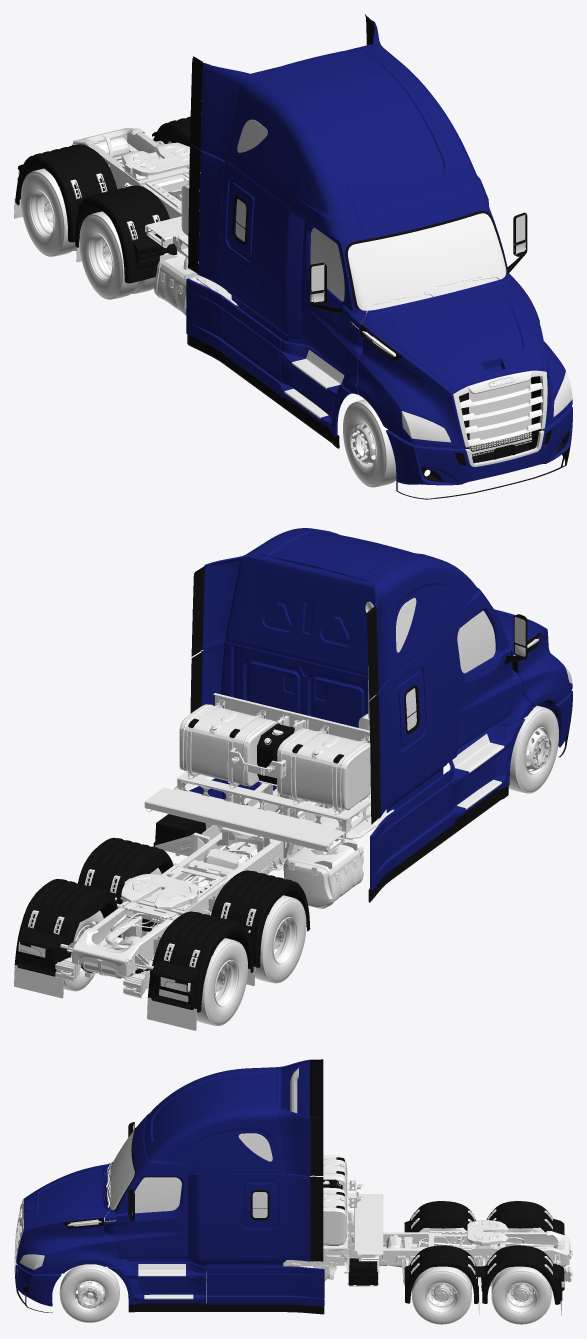
The model's file is cascadia-2020.glb.
3 renders of one model, top to bottom at view 1: azimuth 30°, elevation 25°; view 2: azimuth 150°, elevation 25°; view 3: azimuth 270°, elevation 25°, orthographic. The views are drawn at different scales.
Parts seen in each view (by area): view 1: cab truck 001, glass 003, guarda fango, plastico, chassis, cromium, Box010, Torus006, Torus007, Torus008, ruedas de camion, chassis cascadia (+4 smaller); view 2: cab truck 001, chassis, guarda fango, tanque de combutible, plastico, pasarela, chassis cascadia, glass 003, Torus008, ruedas de camion, Torus006, Torus007 (+7 smaller); view 3: cab truck 001, guarda fango, chassis, plastico, glass 003, tanque de combutible, Torus001, Torus002, Torus004, pasarela, ruedas de camion, pasos (+4 smaller).
Boxes of the visible parts, box(x1,y1,x2,y2) form: cab truck 001: box(186, 21, 572, 485); glass 003: box(235, 119, 506, 312); guarda fango: box(15, 116, 202, 283); plastico: box(187, 14, 570, 499); chassis: box(72, 128, 394, 352); cromium: box(310, 214, 547, 466); Box010: box(469, 379, 531, 456); Torus006: box(343, 399, 396, 487); Torus007: box(21, 168, 76, 256); Torus008: box(79, 211, 137, 299); ruedas de camion: box(30, 190, 376, 468); chassis cascadia: box(154, 253, 207, 315); cab truck 001: box(189, 528, 572, 890); chassis: box(29, 693, 370, 995); guarda fango: box(14, 837, 310, 1012); tanque de combutible: box(150, 601, 375, 923); plastico: box(190, 565, 570, 902); pasarela: box(144, 787, 393, 854); chassis cascadia: box(155, 823, 363, 908); glass 003: box(396, 597, 495, 730); Torus008: box(255, 895, 306, 983); ruedas de camion: box(75, 727, 549, 1007); Torus006: box(508, 705, 558, 793); Torus007: box(196, 938, 247, 1025); cab truck 001: box(15, 1059, 324, 1306); guarda fango: box(404, 1201, 564, 1304); chassis: box(88, 1158, 570, 1286); plastico: box(15, 1059, 324, 1314); glass 003: box(107, 1129, 272, 1217); tanque de combutible: box(290, 1067, 494, 1263); Torus001: box(59, 1264, 119, 1322); Torus002: box(411, 1266, 471, 1324); Torus004: box(491, 1266, 551, 1324); pasarela: box(354, 1194, 383, 1261); ruedas de camion: box(73, 1280, 538, 1312); pasos: box(138, 1264, 193, 1299).
Size of the model in its own units: 3.05 by 4.11 by 9.99.
